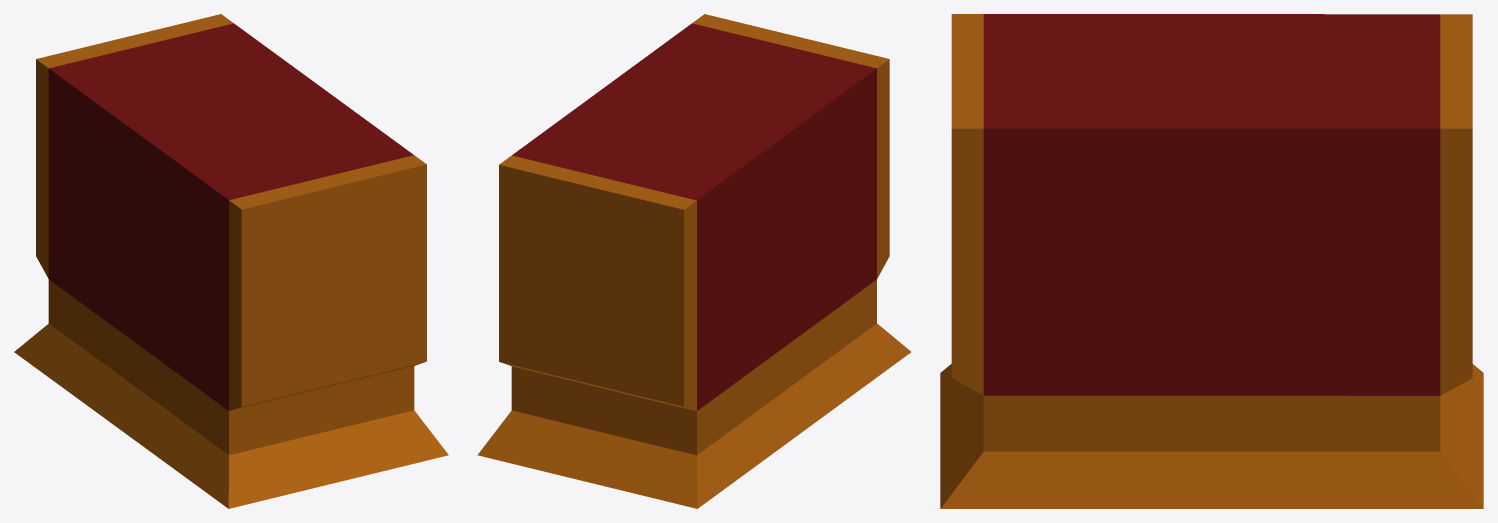
File: ToolBox_low.FBX
The picture shows the model from 3 angles, left to right: view 1: azimuth 30°, elevation 25°; view 2: azimuth 150°, elevation 25°; view 3: azimuth 270°, elevation 25°; orthographic projection. The views are drawn at different scales.
Visible parts, largest first — view 1: ToolBox_low; view 2: ToolBox_low; view 3: ToolBox_low.
Part boxes in pixels (x1,y1,x2,y2): ToolBox_low: [14, 14, 448, 508]; ToolBox_low: [477, 14, 910, 508]; ToolBox_low: [940, 14, 1483, 508].
Size of the model in its own units: 0.4708 by 0.5956 by 0.793.
